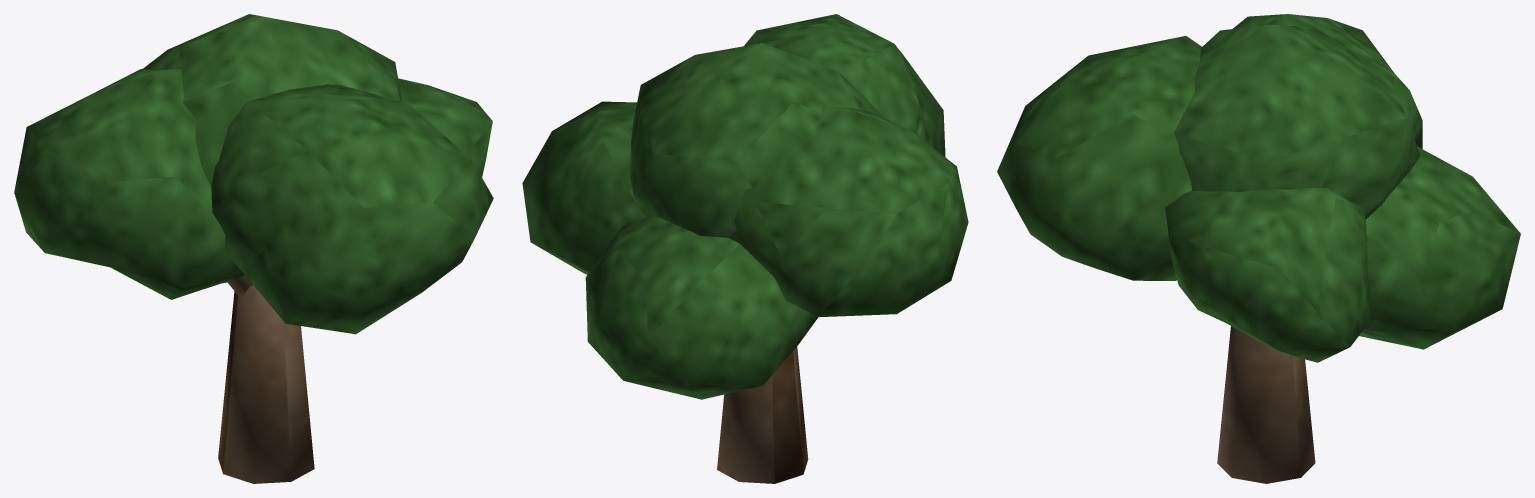
File: ambient_tree_8.glb
The picture shows the model from 3 angles, left to right: view 1: azimuth 30°, elevation 25°; view 2: azimuth 150°, elevation 25°; view 3: azimuth 270°, elevation 25°; orthographic projection. The views are drawn at different scales.
Parts seen in each view (by area): view 1: ambient_tree_8; view 2: ambient_tree_8; view 3: ambient_tree_8.
Part boxes in pixels (x1=…): ambient_tree_8: x1=14, y1=14, x2=493, y2=483; ambient_tree_8: x1=522, y1=14, x2=968, y2=483; ambient_tree_8: x1=997, y1=14, x2=1520, y2=483.
Size of the model in its own units: 4.46 by 4.27 by 4.62.
2 materials, 2 textured.
